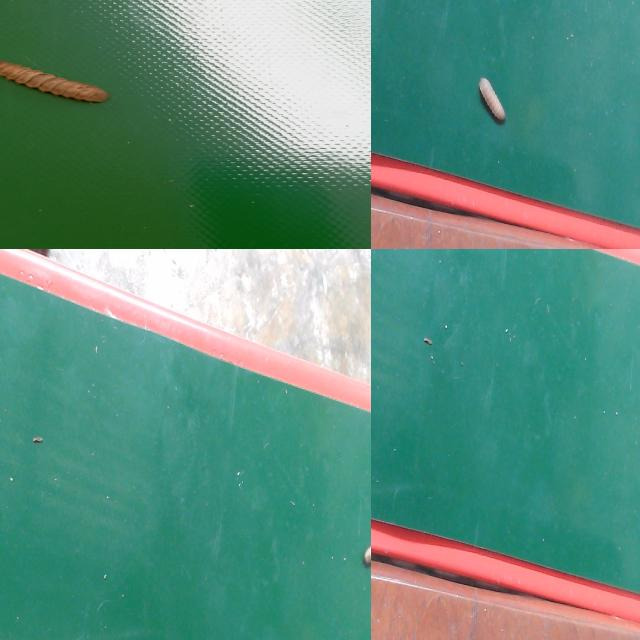Maggot: (0, 61, 110, 106), (478, 78, 507, 127), (363, 544, 371, 569)
